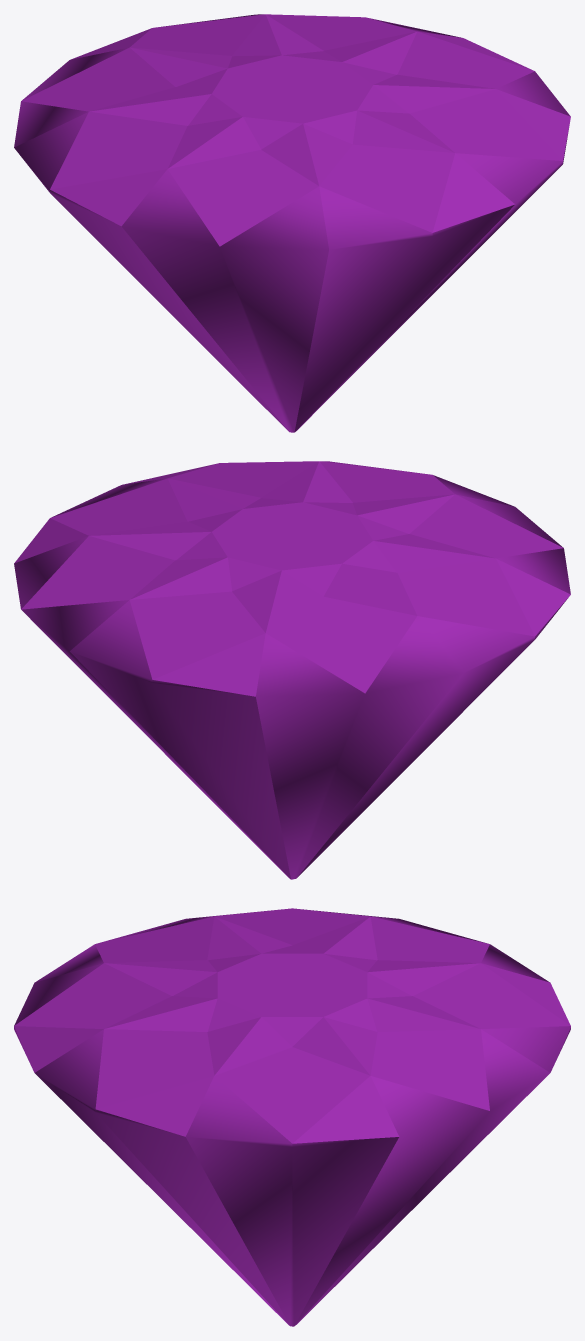
Rendered from Elmas.fbx.
3 views of the same model, one above another, from view 1: azimuth 30°, elevation 25°; view 2: azimuth 150°, elevation 25°; view 3: azimuth 270°, elevation 25° (orthographic).
Visible parts, largest first — view 1: dimaond; view 2: dimaond; view 3: dimaond.
Boxes of the visible parts, x1=… form: dimaond: x1=14, y1=14, x2=570, y2=432; dimaond: x1=14, y1=461, x2=570, y2=879; dimaond: x1=14, y1=908, x2=570, y2=1326.
Bounding box in the file's own units: 55.83 × 37.59 × 55.83.
